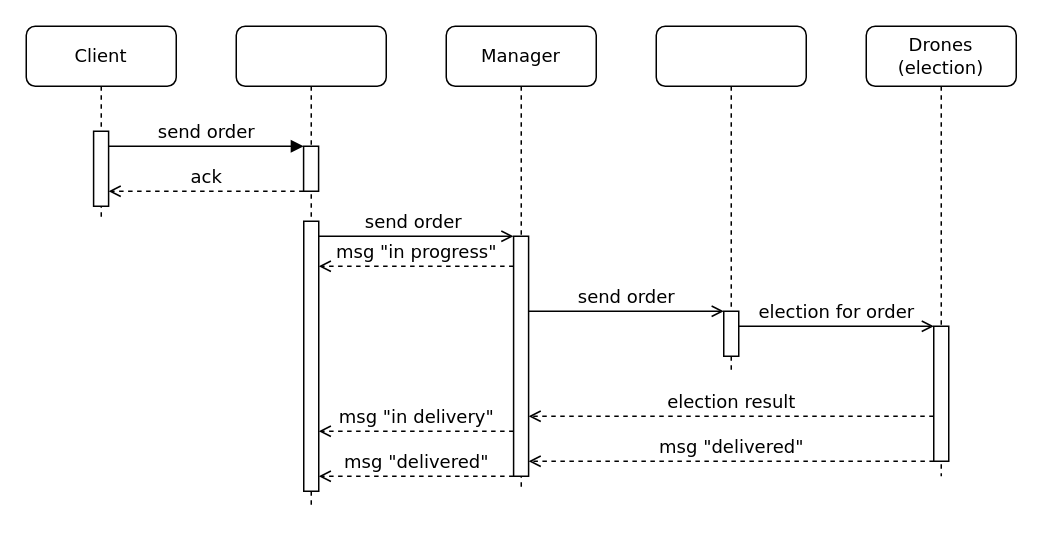
Some shapes in this 1043 by 533 pixel diagram are drawn without their labels. The shapes that lost their labels are listed below. From the top down, each one's box as (x1, y1, x2, y2) in pixels, then its label:
(655, 25, 806, 371): Random Drone
(235, 25, 386, 506): Broker
